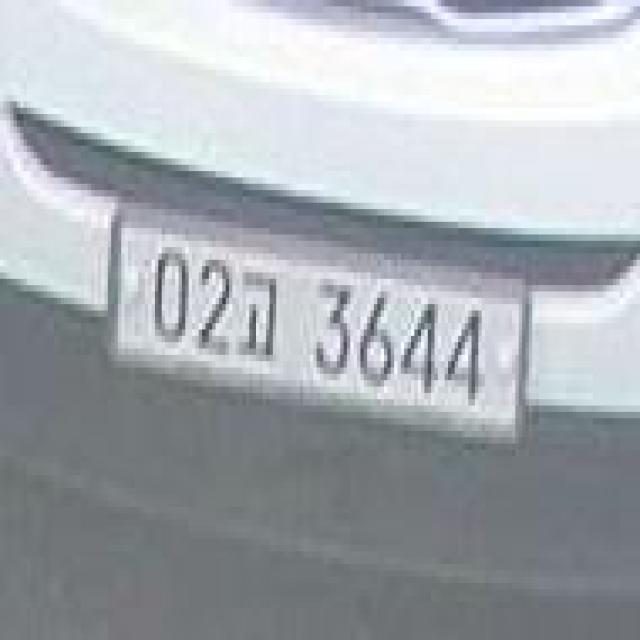illegal_plate: (107, 203, 525, 457)
